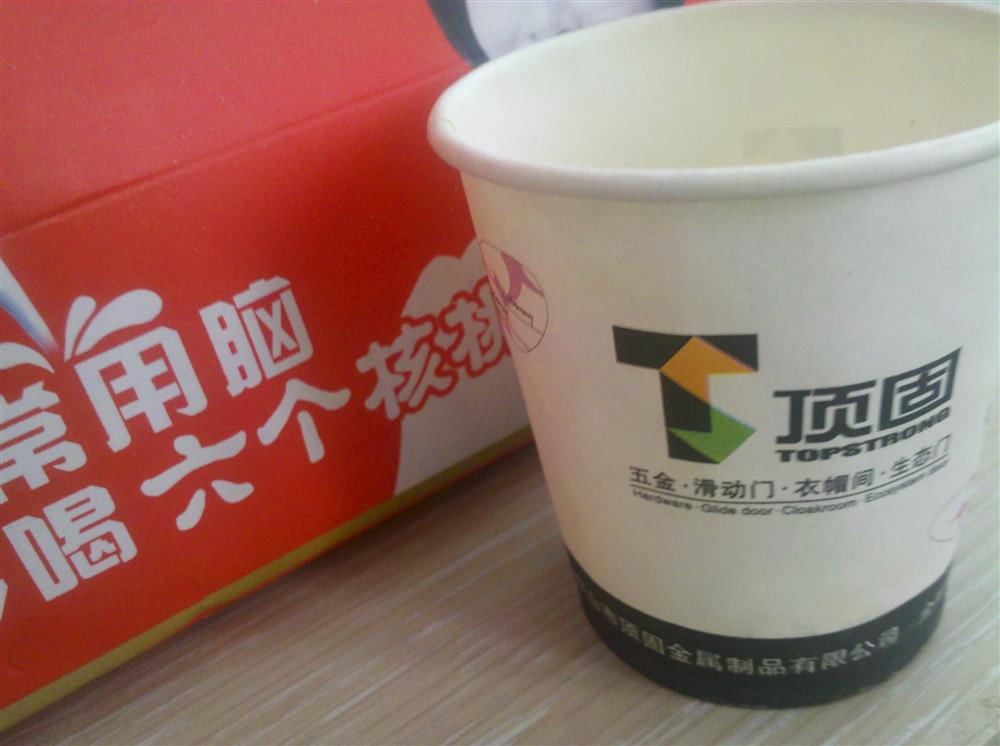TopStrong_Cup: (451, 32, 978, 700)
